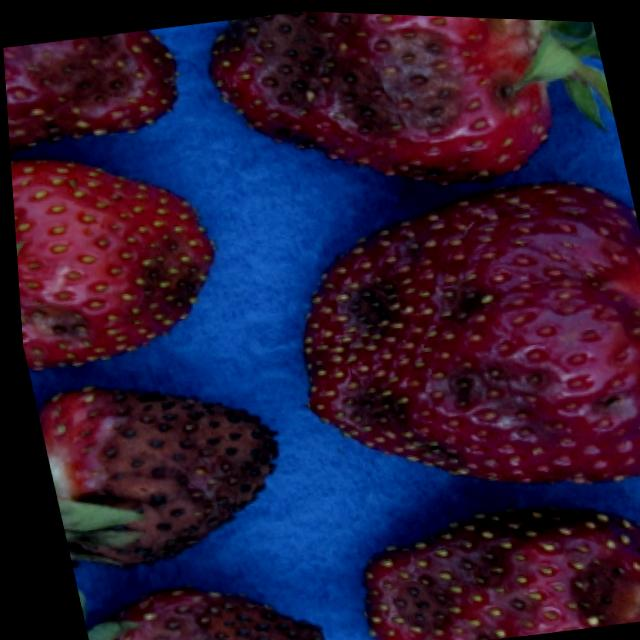Anthracnose Fruit Rot: (301, 175, 640, 477), (207, 9, 530, 180), (62, 386, 278, 565), (357, 504, 640, 640), (16, 220, 212, 363), (104, 584, 320, 640), (15, 30, 147, 117)
